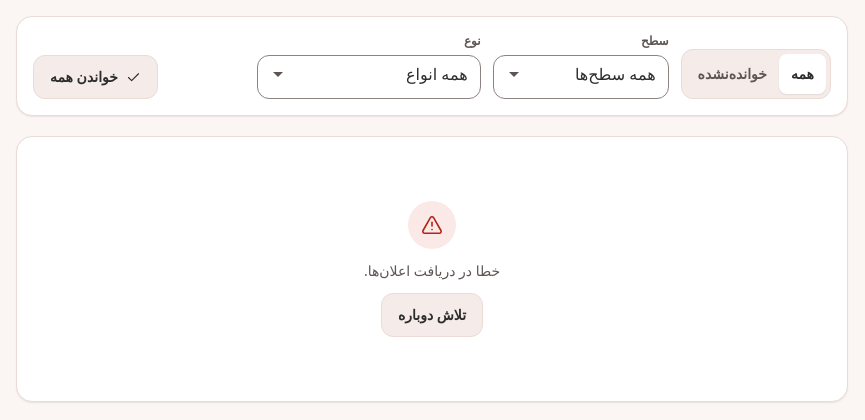
Test: NotificationsView › shows a retryable error state rather than an empty inbox when the fetch fails
The image size is (865, 420).
Click the button with test id "retry-load": (432, 315) [381,293,483,337]
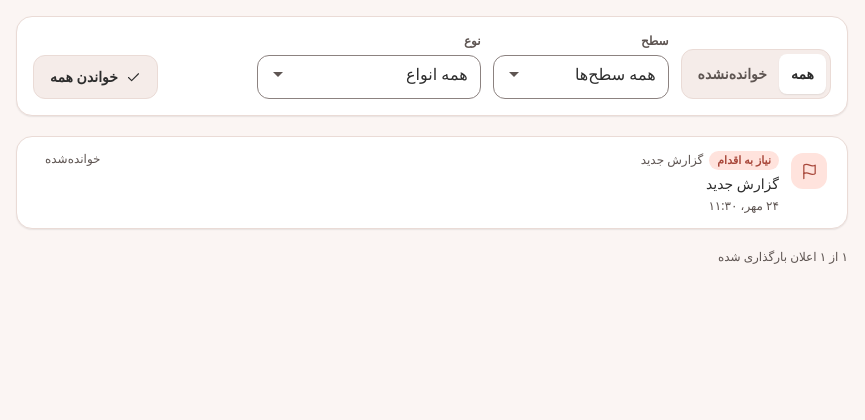
Result: the number of elements with test id "notification-row" is 1 at [17,137,847,228]
